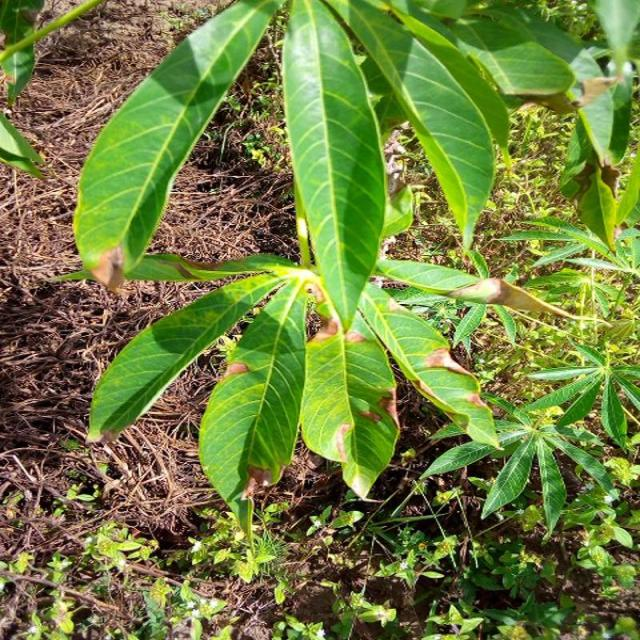cassava leaf: (70, 0, 612, 540), (72, 0, 282, 284), (340, 0, 510, 252), (281, 0, 387, 332), (85, 270, 283, 446), (197, 278, 307, 534), (299, 330, 400, 500)
